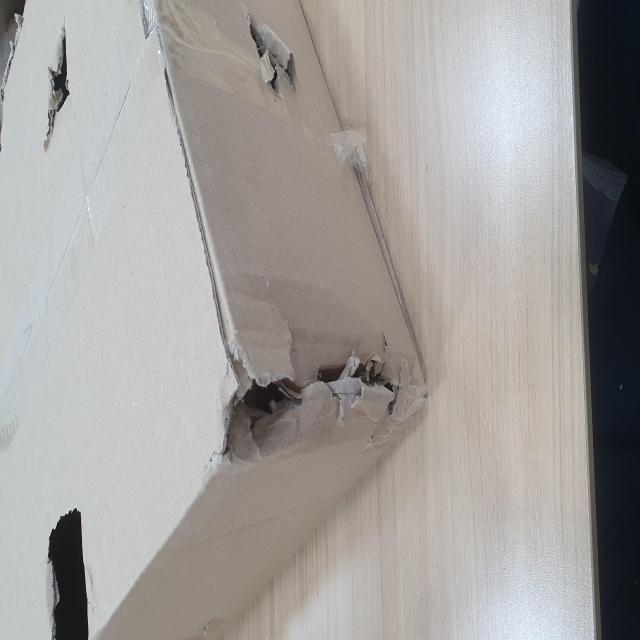damaged: (96, 378, 180, 640), (0, 69, 75, 172), (262, 61, 351, 136), (301, 438, 353, 546)
